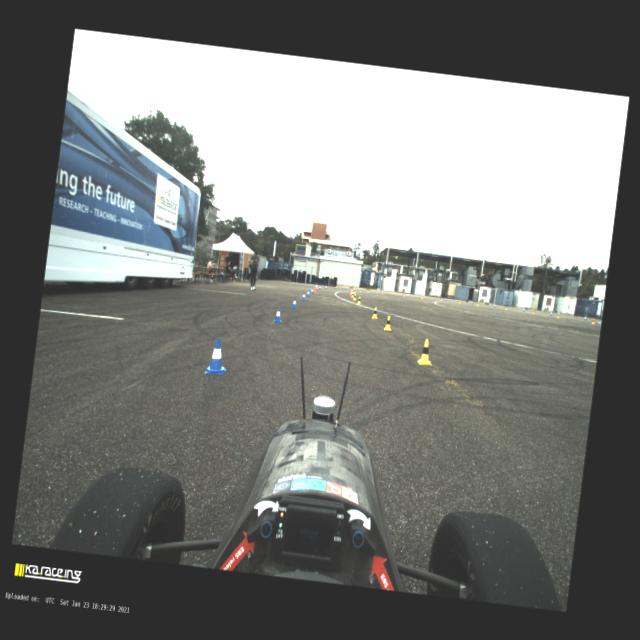blue_cone: (204, 336, 230, 375), (272, 306, 284, 324), (290, 297, 298, 309), (300, 292, 306, 300), (306, 289, 310, 297), (310, 287, 314, 294), (582, 315, 586, 320), (324, 284, 327, 290), (522, 306, 525, 312), (318, 284, 320, 290), (549, 311, 552, 315), (493, 304, 496, 308), (316, 286, 318, 290), (470, 300, 472, 304), (444, 296, 446, 300), (334, 284, 336, 288), (345, 286, 347, 290)
large_orange_cone: (314, 283, 318, 292), (348, 287, 352, 296)
yellow_cone: (416, 338, 434, 366), (383, 315, 392, 331), (371, 306, 379, 319), (356, 296, 361, 304), (590, 318, 596, 324), (352, 294, 357, 300), (504, 305, 508, 310), (351, 292, 354, 298), (402, 292, 406, 296), (556, 313, 559, 318), (476, 301, 479, 306), (381, 289, 384, 294), (352, 288, 354, 294), (359, 288, 362, 292), (458, 300, 461, 304), (367, 288, 369, 292), (532, 310, 534, 314), (440, 297, 442, 301), (420, 294, 422, 298), (354, 288, 356, 292)
